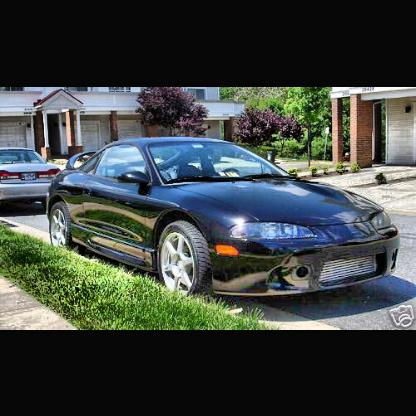Eagle Talon Hatchback 1998: (47, 138, 400, 301)
